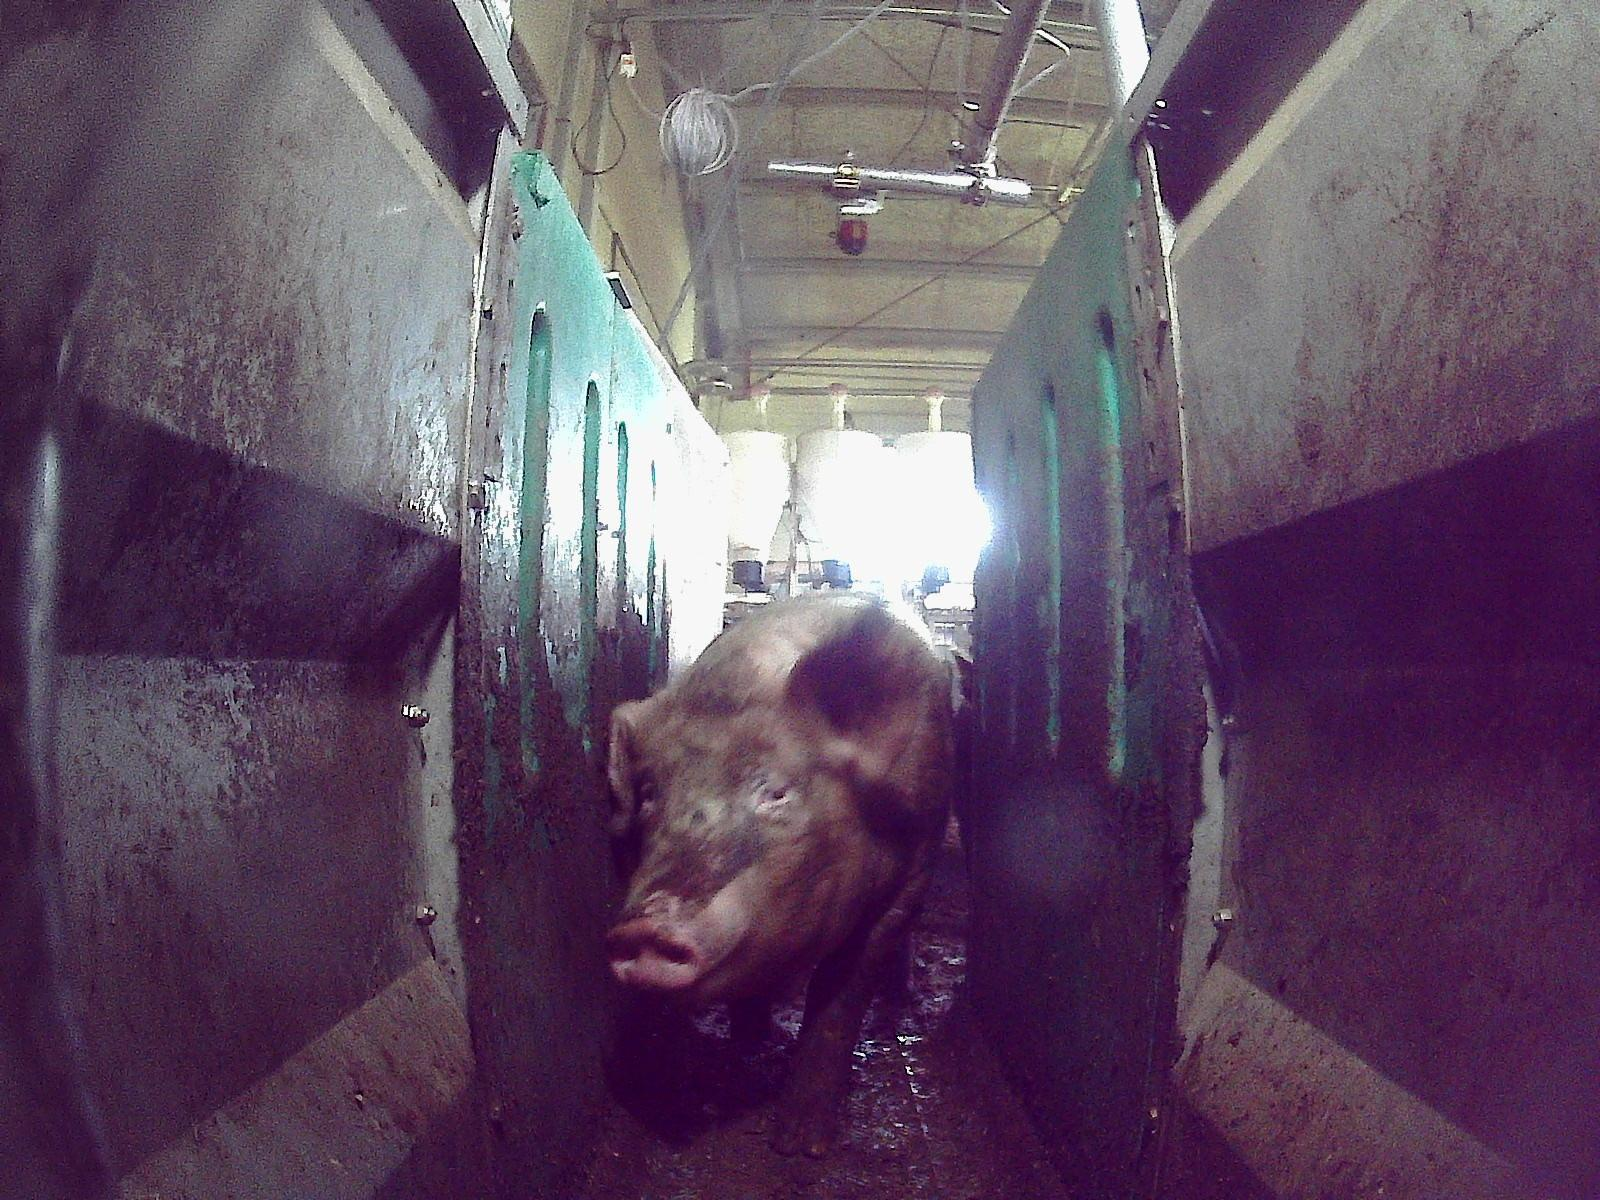Face: (605, 717, 836, 993)
